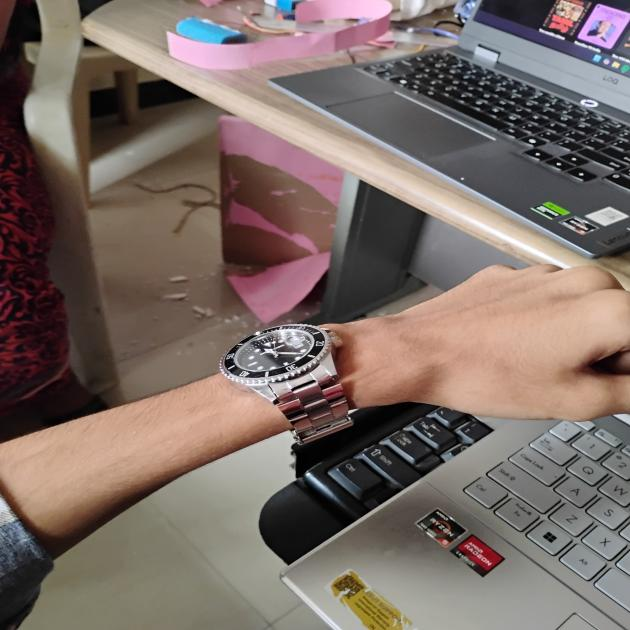wristwatch: (209, 312, 413, 462)
